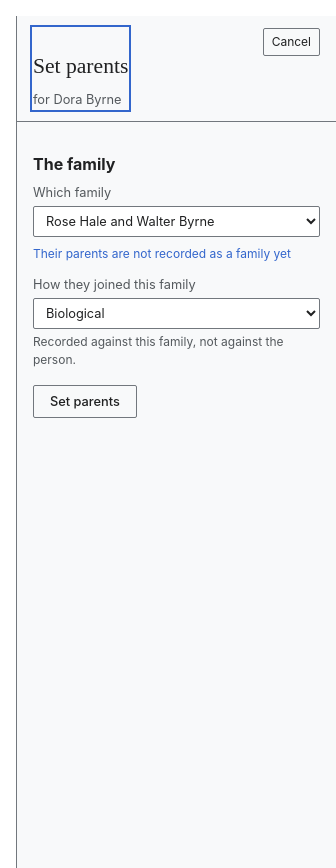
Scenario: what comes back › closes only once the link exists
Step 1. Select "Rose Hale and Walter Byrne" in the dropdown labelled "Which family" → (176, 221), box [33,206,320,237]
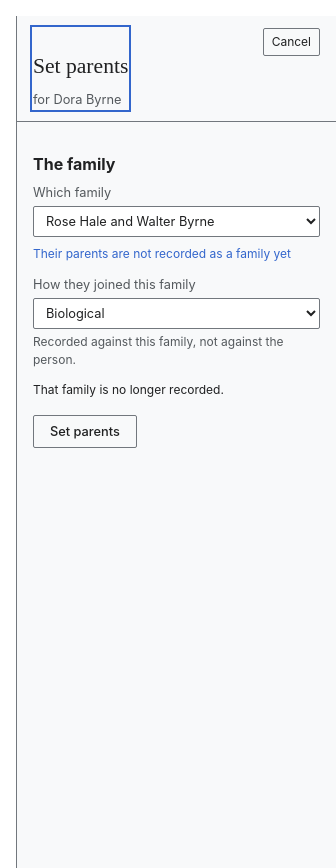
Result: the text "no longer recorded" is shown at [33,382,224,397]
